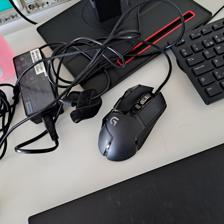mouse: (96, 83, 168, 163)
